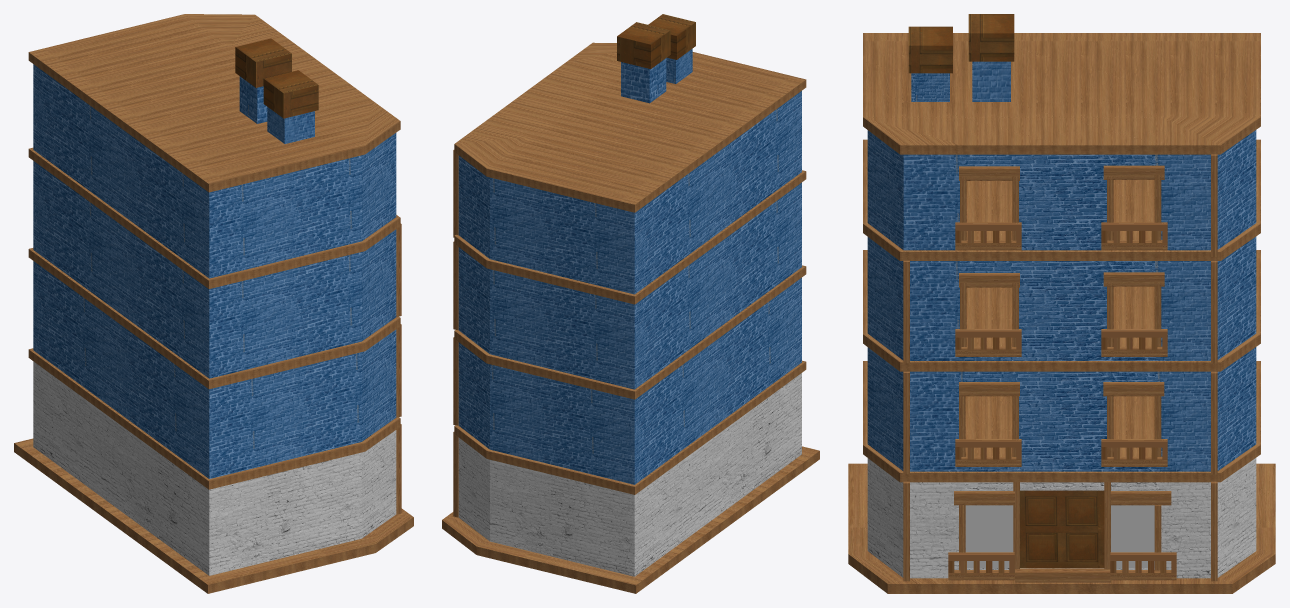
Rendered from City house4.fbx.
3 renders of one model, left to right at view 1: azimuth 30°, elevation 25°; view 2: azimuth 150°, elevation 25°; view 3: azimuth 270°, elevation 25°, orthographic. The views are drawn at different scales.
Visible parts, largest first — view 1: Cube.053, Cube.001, Cube.002, Cube.003, Cube.043, Cube.005, Cube.006, Cube.004, Cube.042, Cube.010, Cube.009, Cube.008 (+4 smaller); view 2: Cube.053, Cube.001, Cube.002, Cube.003, Cube.043, Cube.005, Cube.006, Cube.042, Cube.004, Cube.009, Cube.007, Cube.010 (+5 smaller); view 3: Cube.053, Cube.001, Cube.002, Cube.043, Cube.003, Cube.005, Cube.042, Cube.004, Cube.006, Plane, Plane.002, Plane.001 (+30 smaller).
Boxes of the visible parts, box(x1,y1,x2,y2) form: Cube.053: box(28, 14, 400, 192); Cube.001: box(33, 261, 396, 478); Cube.002: box(33, 161, 396, 378); Cube.003: box(33, 361, 396, 575); Cube.043: box(33, 64, 396, 278); Cube.005: box(14, 438, 413, 593); Cube.006: box(28, 147, 400, 288); Cube.004: box(28, 248, 400, 389); Cube.042: box(28, 348, 400, 489); Cube.010: box(263, 70, 318, 118); Cube.009: box(235, 38, 291, 87); Cube.008: box(267, 107, 314, 143); Cube.053: box(454, 42, 806, 212); Cube.001: box(458, 277, 801, 484); Cube.002: box(458, 182, 801, 389); Cube.003: box(458, 373, 801, 576); Cube.043: box(458, 91, 801, 294); Cube.005: box(442, 446, 819, 593); Cube.006: box(454, 170, 806, 304); Cube.042: box(454, 360, 806, 494); Cube.004: box(454, 265, 806, 399); Cube.009: box(617, 22, 670, 68); Cube.007: box(621, 58, 666, 103); Cube.010: box(648, 14, 695, 59); Cube.053: box(863, 33, 1260, 154); Cube.001: box(867, 347, 1256, 471); Cube.002: box(867, 236, 1256, 360); Cube.043: box(867, 130, 1256, 250); Cube.003: box(867, 458, 1256, 578); Cube.005: box(848, 463, 1275, 593); Cube.042: box(863, 361, 1260, 482); Cube.004: box(863, 250, 1260, 371); Cube.006: box(863, 139, 1260, 260); Plane: box(1020, 490, 1104, 567); Plane.002: box(965, 505, 1013, 567); Plane.001: box(1111, 505, 1154, 567).
Size of the model in its own units: 6474 by 12897 by 9706.
